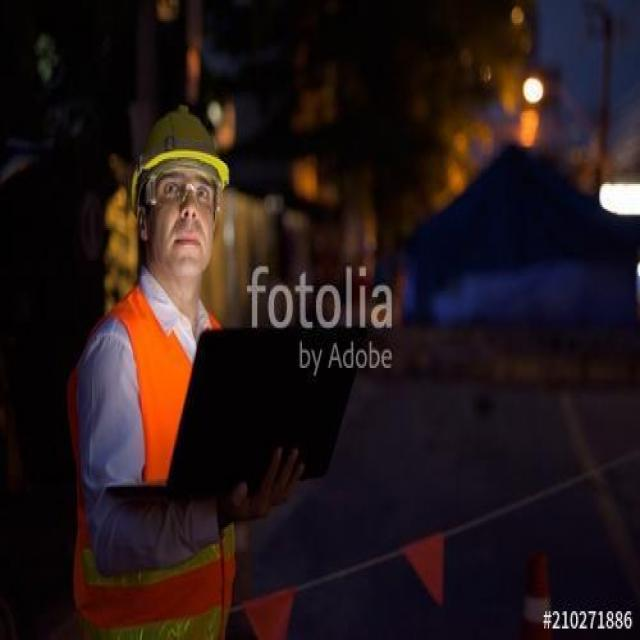vest: (63, 274, 239, 640)
